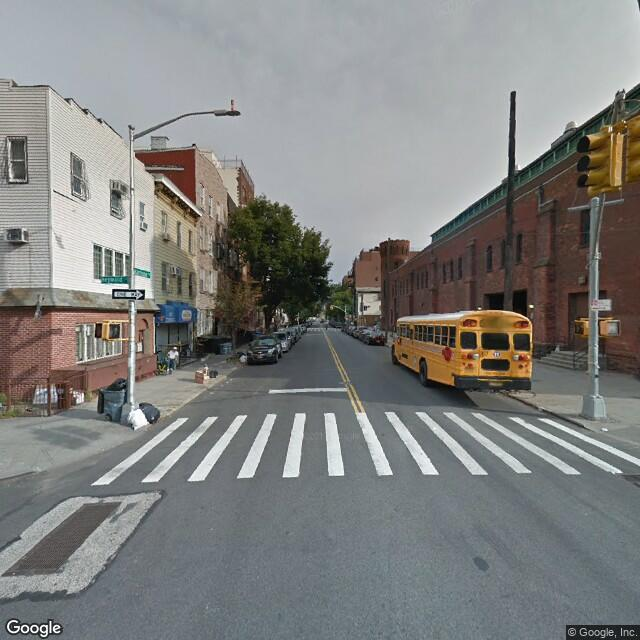litter: (601, 428, 614, 432)
